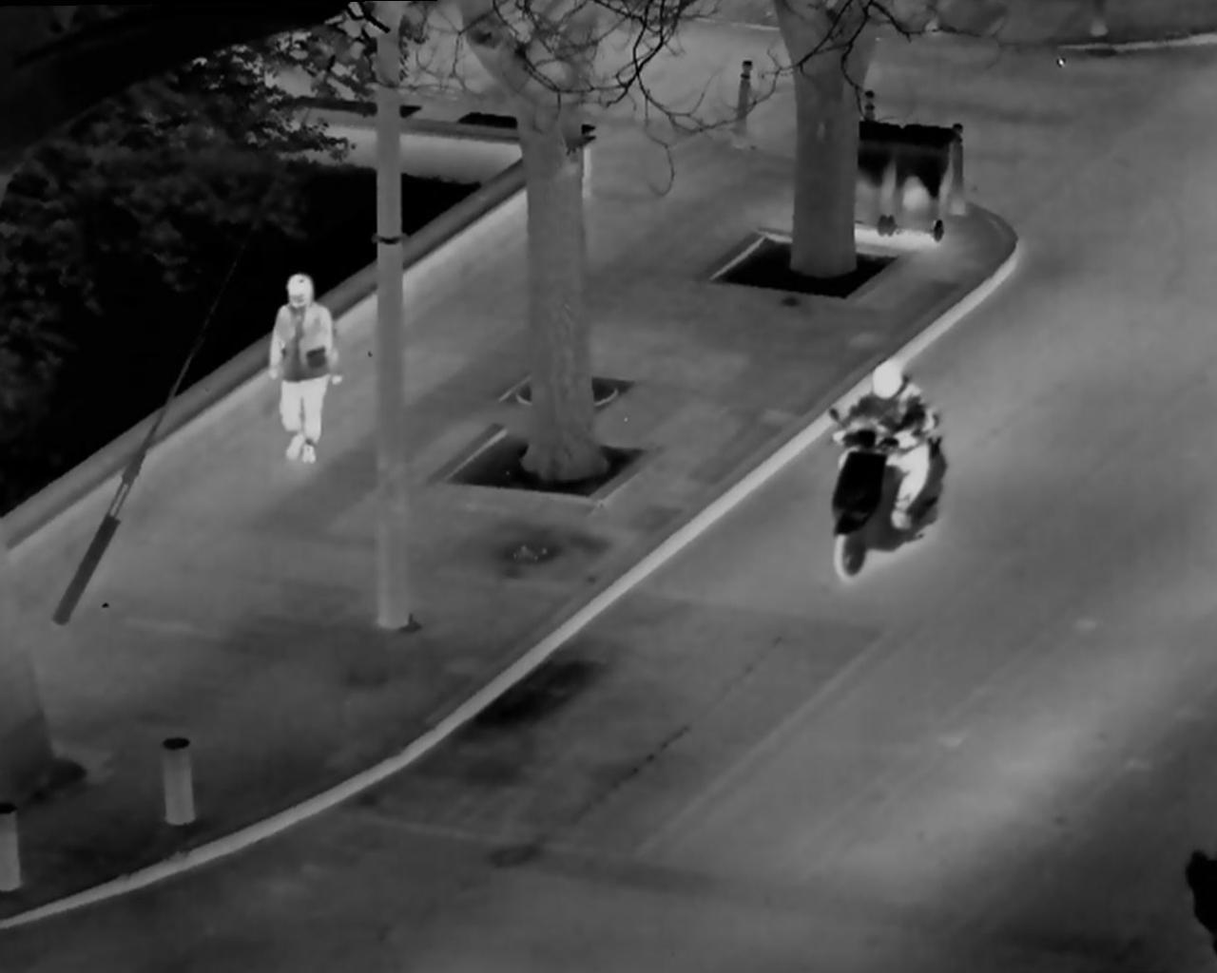person: (826, 338, 947, 557), (257, 261, 358, 469)
